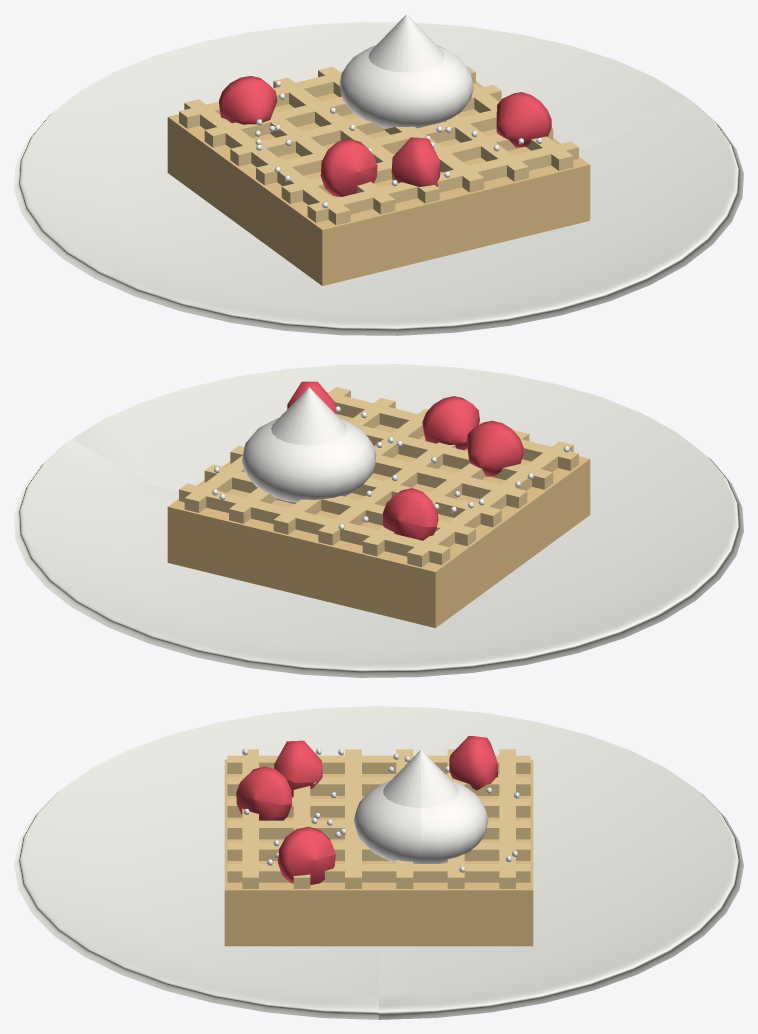
File: belgian-waffle.glb
The picture shows the model from 3 angles, top to bottom: view 1: azimuth 30°, elevation 25°; view 2: azimuth 150°, elevation 25°; view 3: azimuth 270°, elevation 25°; orthographic projection.
Parts seen in each view (by area): view 1: belgian-waffle; view 2: belgian-waffle; view 3: belgian-waffle.
Part boxes in pixels (<box>): belgian-waffle: <box>14,14,743,335</box>; belgian-waffle: <box>14,364,743,677</box>; belgian-waffle: <box>14,706,743,1019</box>.
Size of the model in its own units: 0.26 by 0.068 by 0.26.
